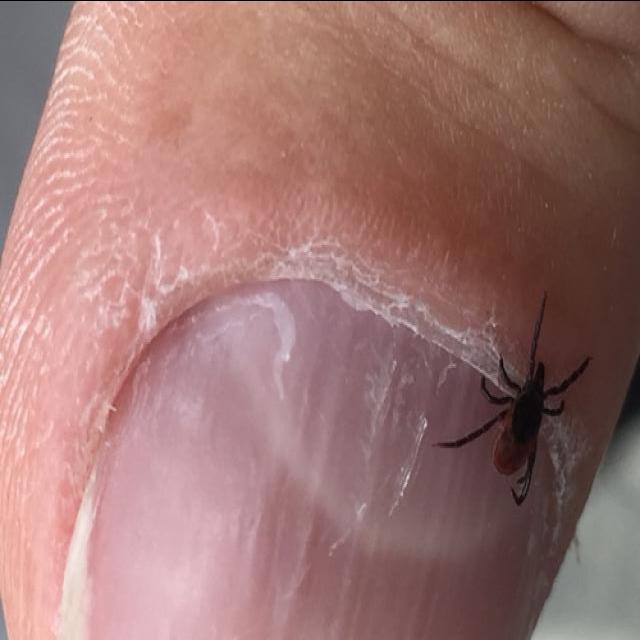Ixodes Ricinus-F: (433, 292, 593, 505)
